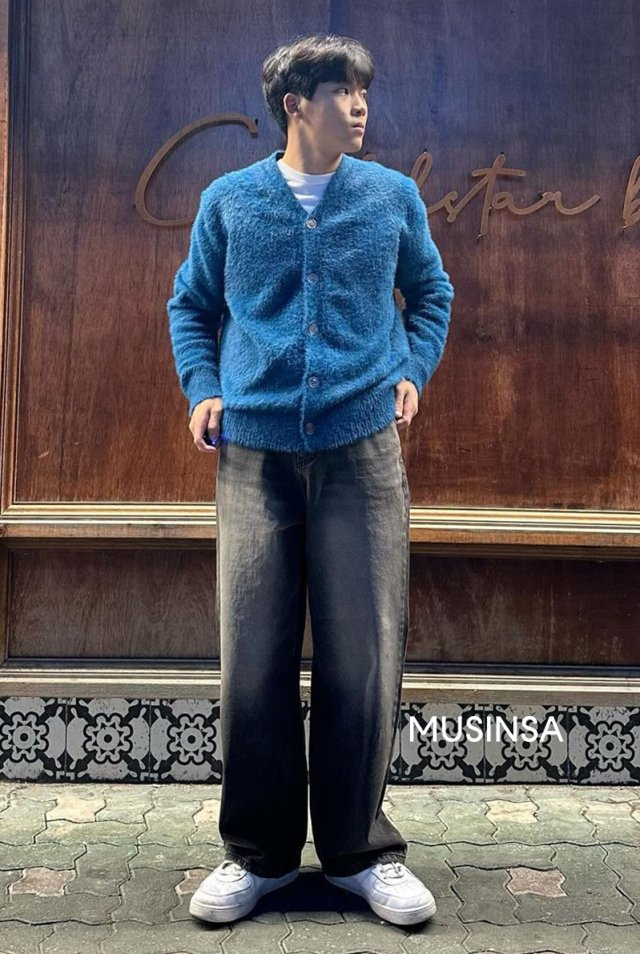Jeans: (206, 428, 416, 866)
Outer: (167, 144, 458, 451)
Shoes: (183, 856, 446, 932)
